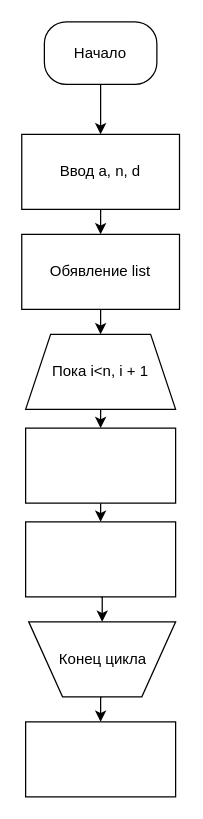
This 203x819 diagram has some shape labels left out. Here are the shapes that lost their labels. From the top down, the centre of each, then its label:
At point (100, 465): "prog = a * d**i".
At point (100, 559): "Добавить prog в list".
At point (100, 759): "Вывод list".
